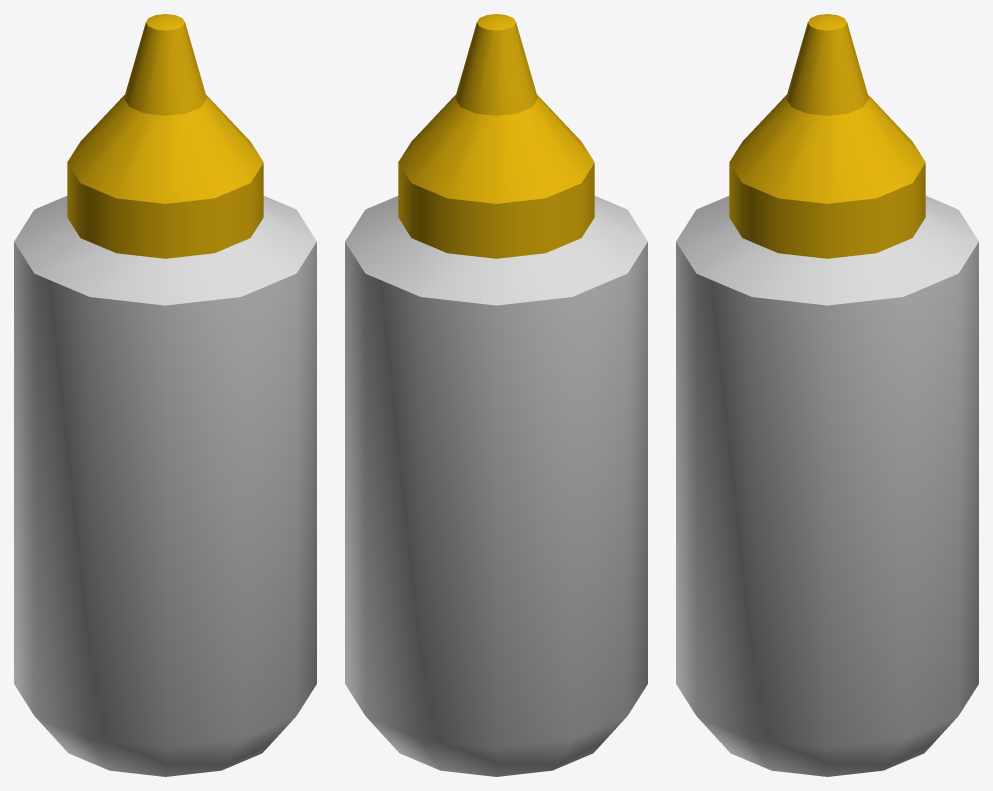
Rendered from Bottle.fbx.
3 views of the same model, side by side, from view 1: azimuth 30°, elevation 25°; view 2: azimuth 150°, elevation 25°; view 3: azimuth 270°, elevation 25° (orthographic).
Parts seen in each view (by area): view 1: ketchup; view 2: ketchup; view 3: ketchup.
Boxes of the visible parts, bbox=[...] form: ketchup: bbox=[14, 14, 316, 776]; ketchup: bbox=[345, 14, 647, 776]; ketchup: bbox=[676, 14, 978, 776].
Size of the model in its own units: 30 by 77.85 by 30.
